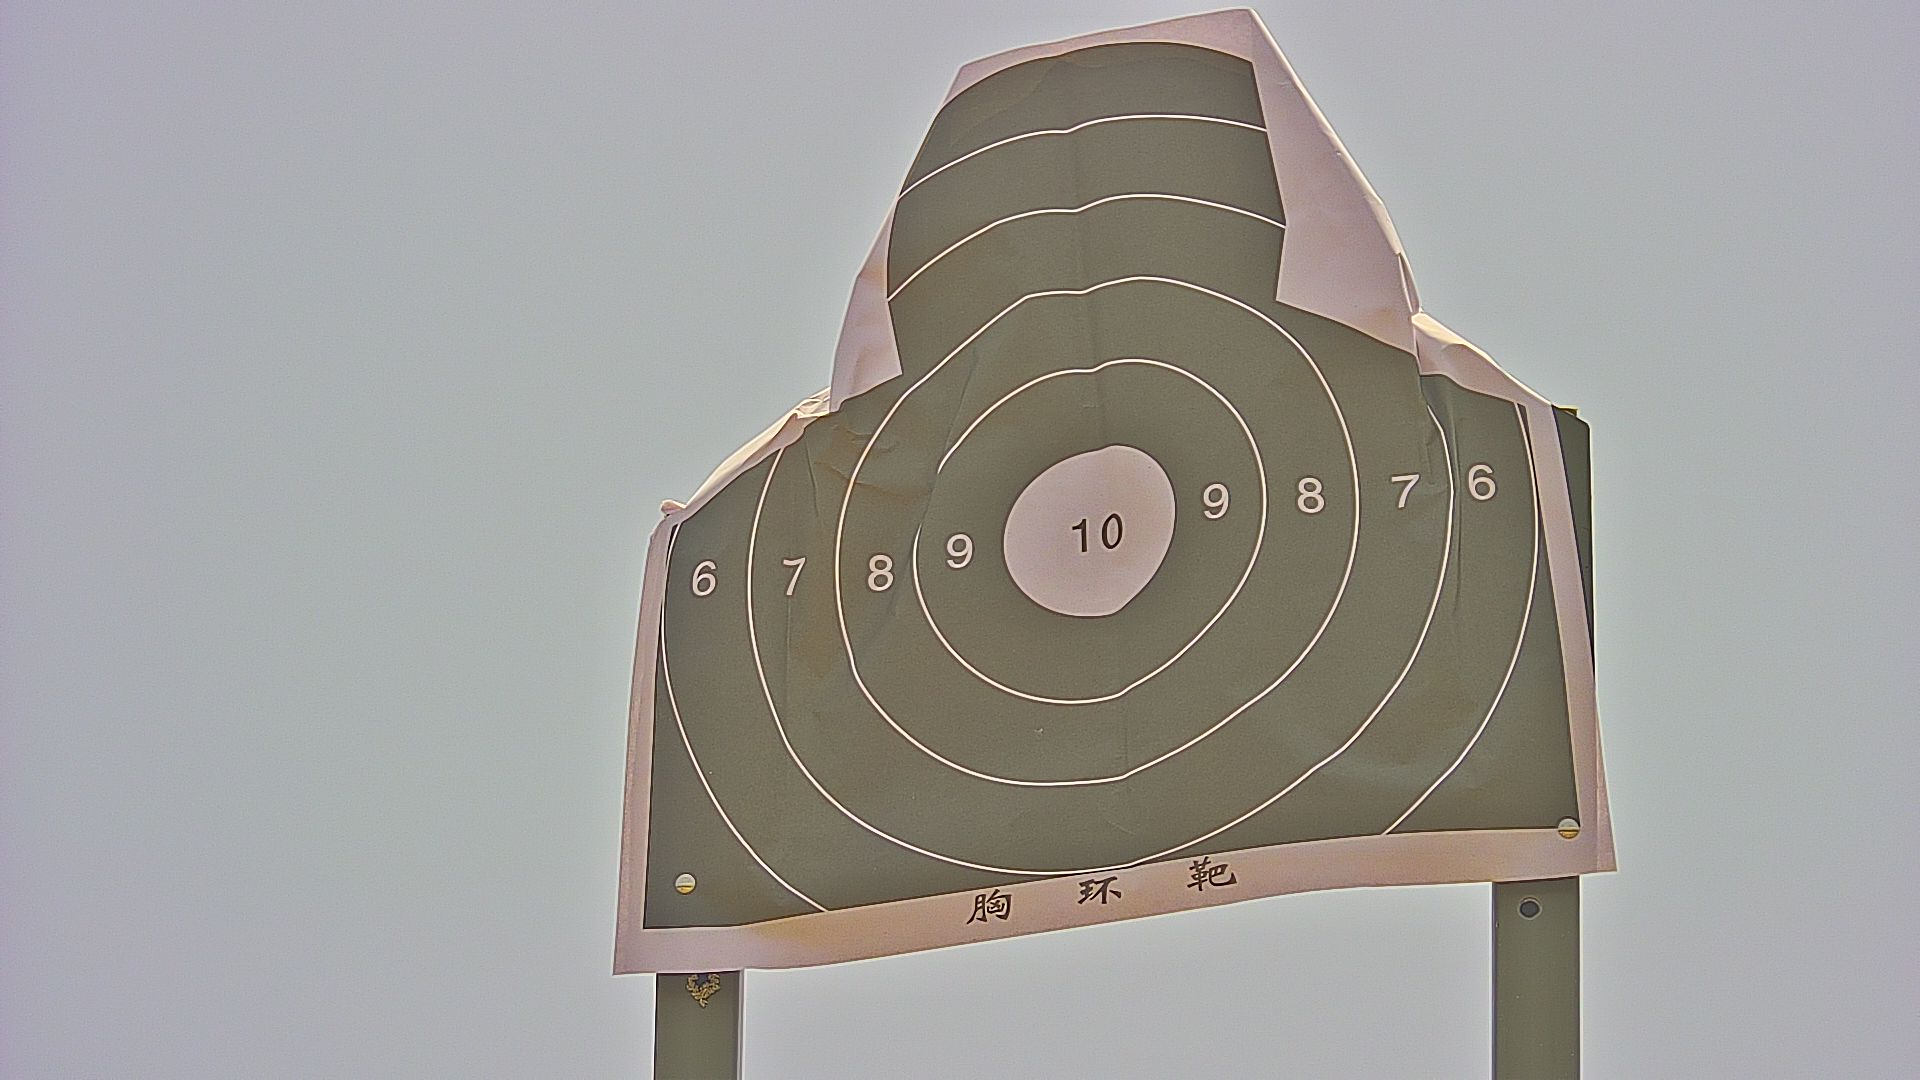kernel: (1093, 535, 1095, 539)
target: (640, 45, 1582, 932)
ten: (1001, 440, 1182, 616)
